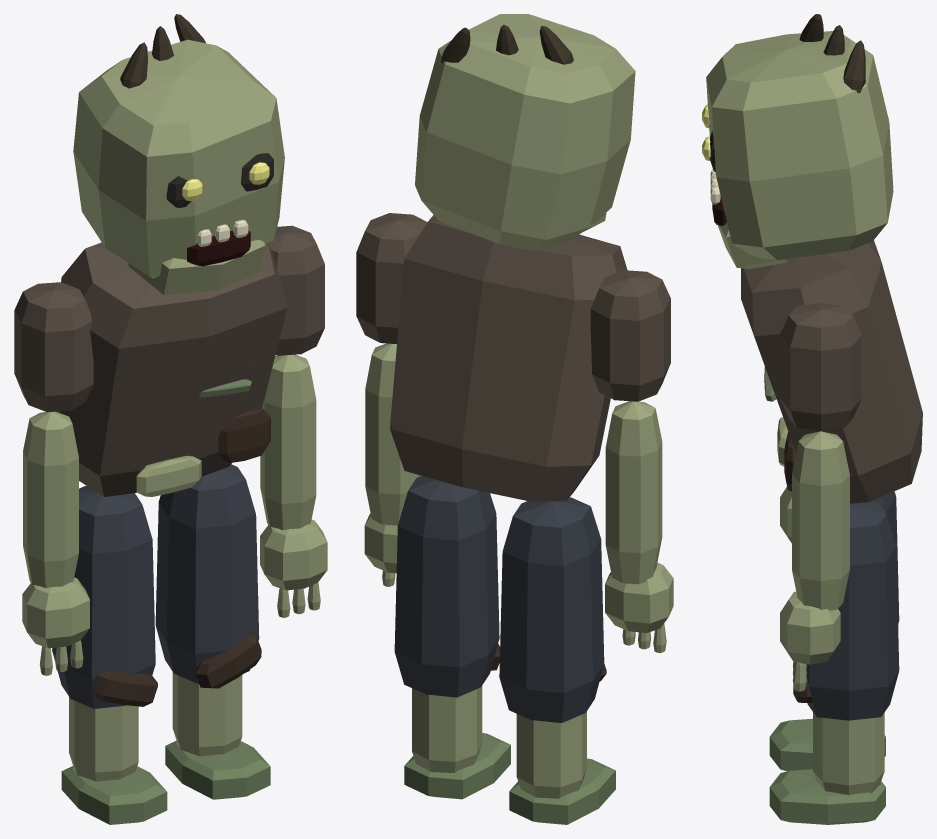
File: mon-crawler-1.glb
3 views of the same model, side by side, from view 1: azimuth 30°, elevation 25°; view 2: azimuth 150°, elevation 25°; view 3: azimuth 270°, elevation 25° (orthographic).
Visible parts, largest first — view 1: head, torso, leg-left, leg-right, arm-right, arm-left; view 2: torso, head, leg-right, leg-left, arm-right, arm-left; view 3: head, leg-left, arm-left, torso, leg-right, arm-right.
Part boxes in pixels (x1,y1,x2,y2): head: (73, 14, 284, 295); torso: (56, 242, 287, 496); leg-left: (155, 464, 270, 799); leg-right: (52, 486, 167, 824); arm-right: (14, 282, 93, 675); arm-left: (260, 225, 327, 617); torso: (390, 215, 627, 501); head: (415, 14, 635, 251); leg-right: (499, 497, 615, 824); leg-left: (394, 476, 510, 799); arm-right: (590, 270, 673, 652); arm-left: (356, 213, 427, 586); head: (702, 14, 893, 268); leg-left: (769, 501, 899, 824); arm-left: (780, 303, 861, 691); torso: (741, 240, 922, 503); leg-right: (769, 491, 899, 771); arm-right: (780, 486, 791, 543).
Size of the model in its own units: 0.9745 by 2.4 by 0.6303.
